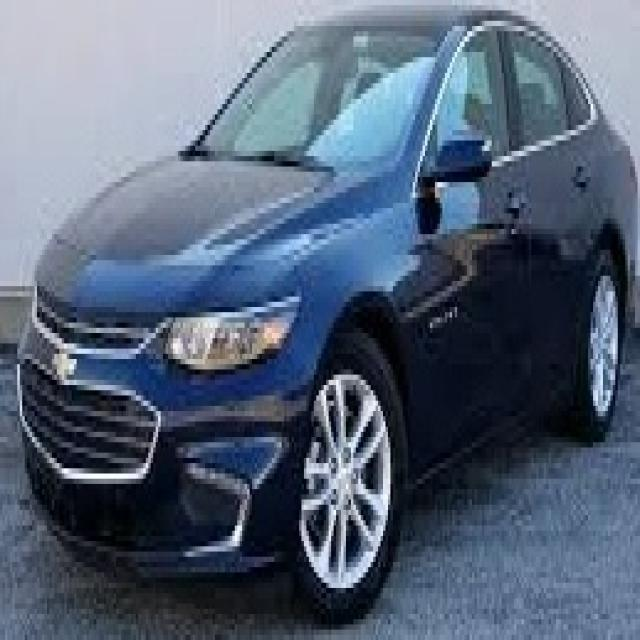blue: (20, 5, 640, 635)
